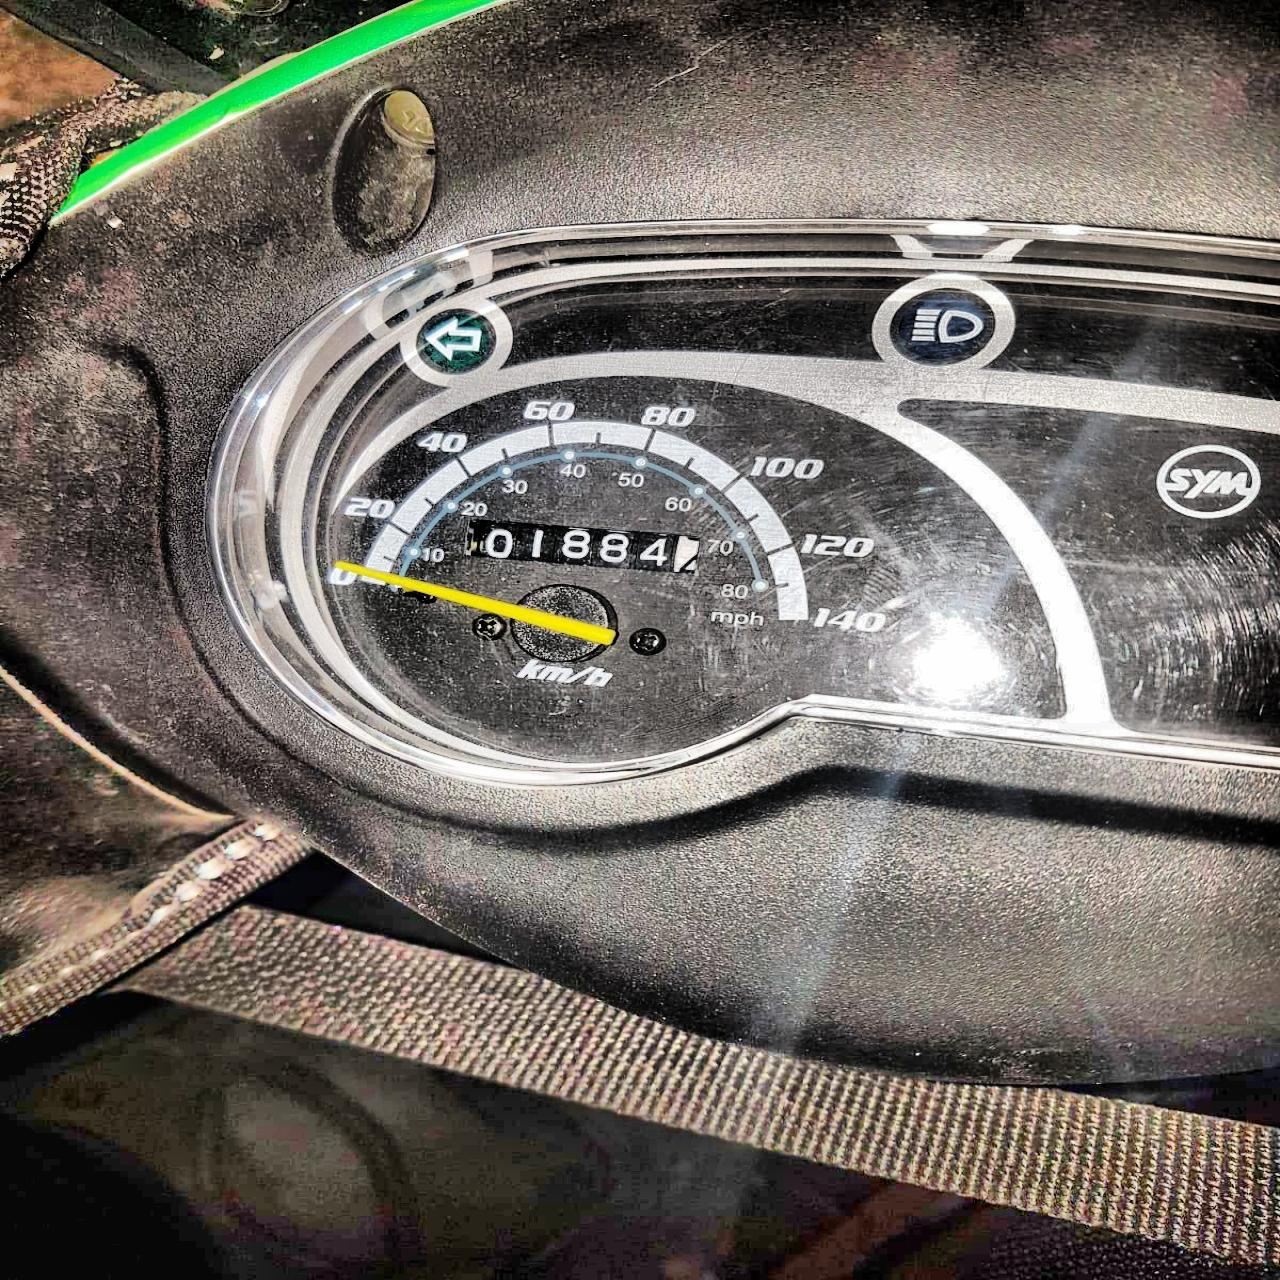0: (484, 525, 513, 558)
1: (527, 527, 545, 558)
4: (636, 536, 668, 566), (675, 551, 699, 574)
8: (558, 527, 591, 559), (598, 531, 629, 563)
odometer: (462, 516, 700, 576)
